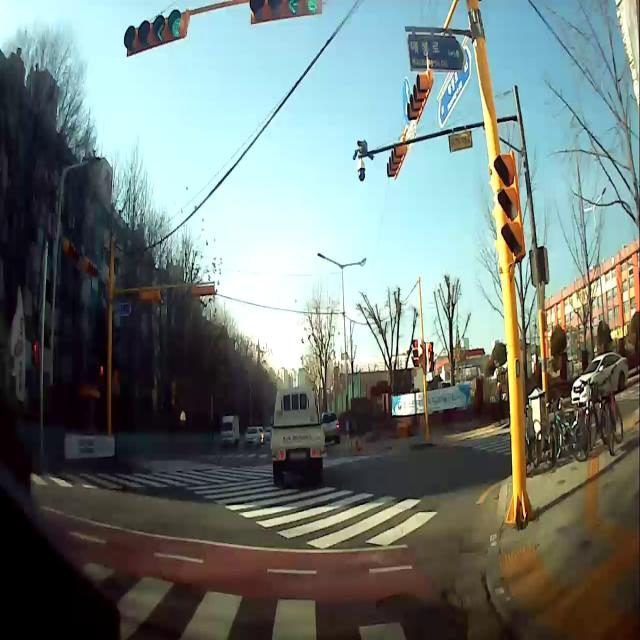Green Light: (168, 9, 183, 41), (307, 0, 316, 13)
